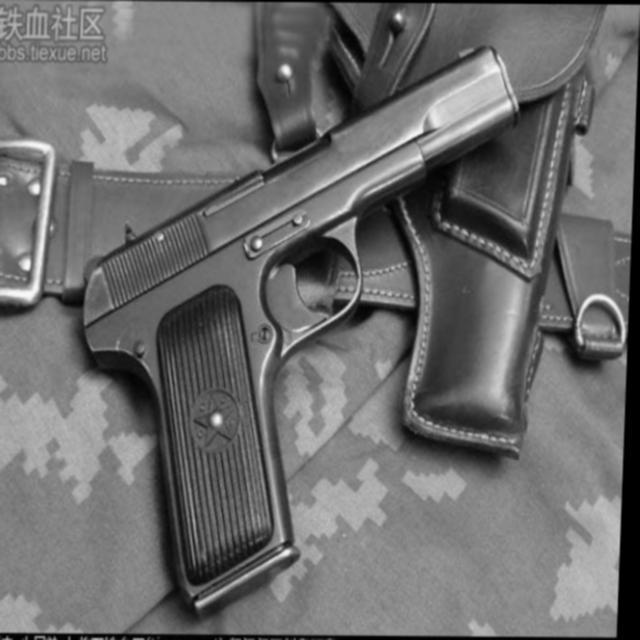weapon: (70, 37, 525, 622)
